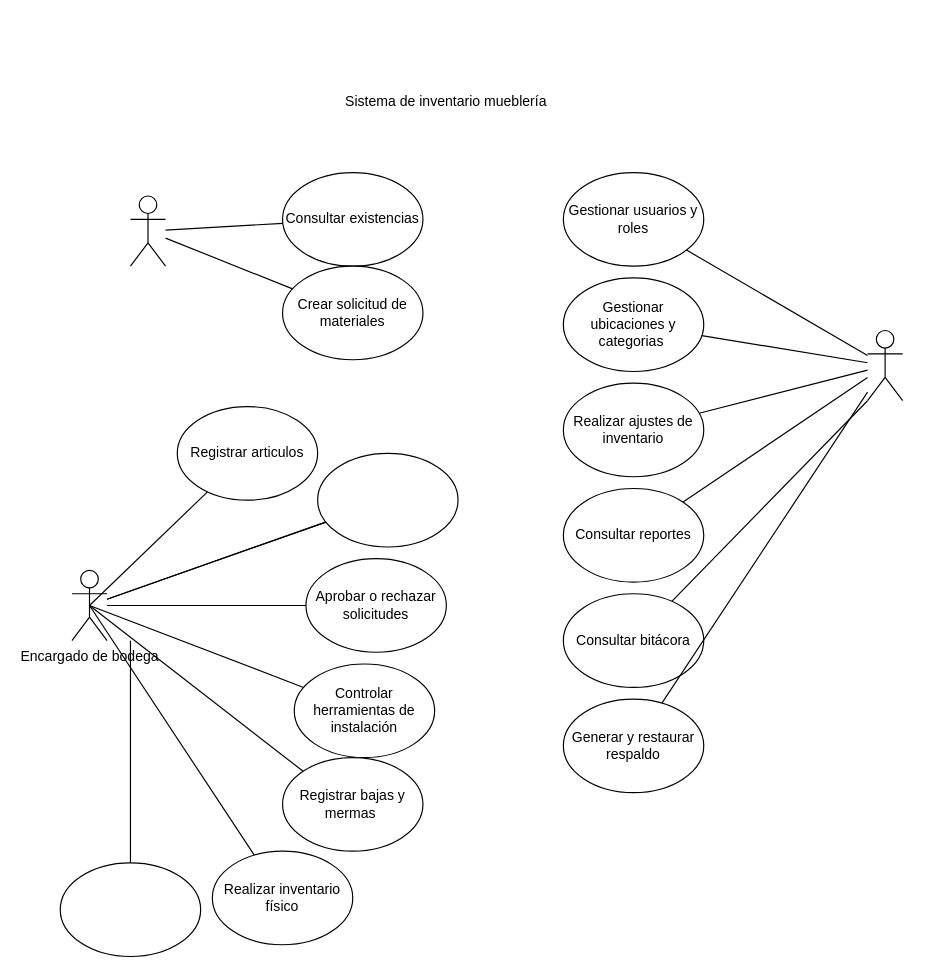
The diagram is 948 pixels wide and 977 high, and some of its shapes have lost their labels. The shapes that lost their labels are listed below. From the top down, each one's centre as x and y in pixels, then its label:
(147,230): Trabajador
(884,365): Administrador
(387,499): Registrar entradas y salidas
(130,909): Consultar alertas
